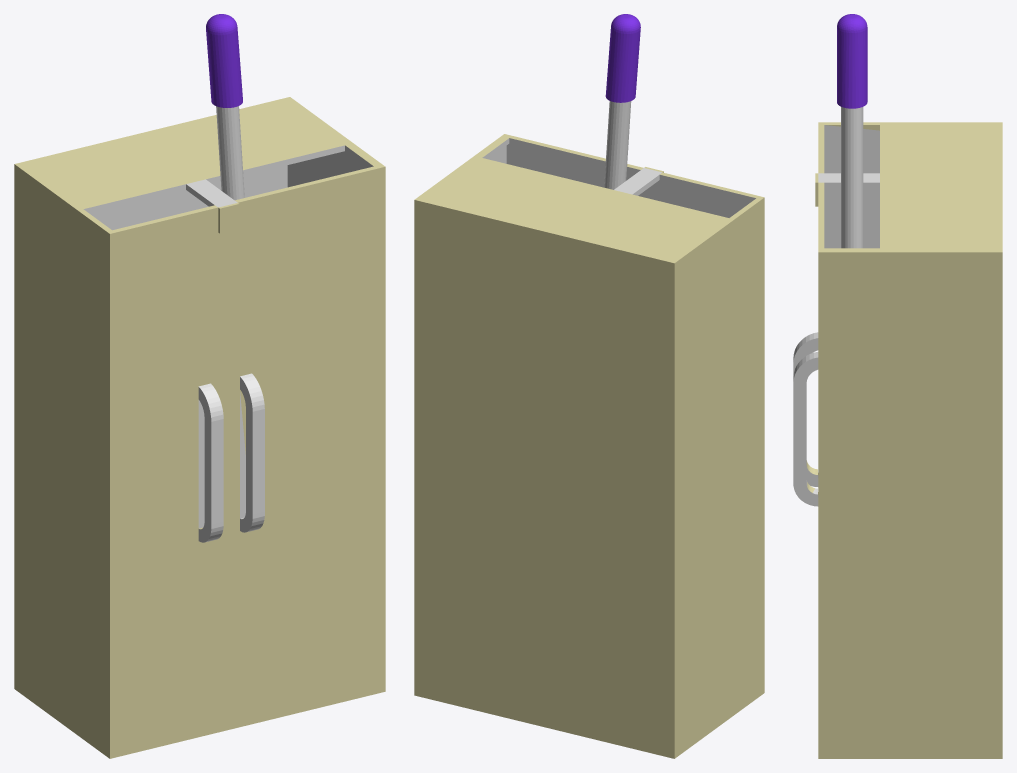
File: 청소도구함.fbx
3 views of the same model, side by side, from view 1: azimuth 30°, elevation 25°; view 2: azimuth 150°, elevation 25°; view 3: azimuth 270°, elevation 25° (orthographic). The views are drawn at different scales.
Parts seen in each view (by area): view 1: 청소함; view 2: 청소함; view 3: 청소함.
Boxes of the visible parts, <box> form: 청소함: <box>14,14,385,758</box>; 청소함: <box>414,14,764,758</box>; 청소함: <box>793,14,1002,758</box>.
Size of the model in its own units: 5000 by 12099 by 3405.
